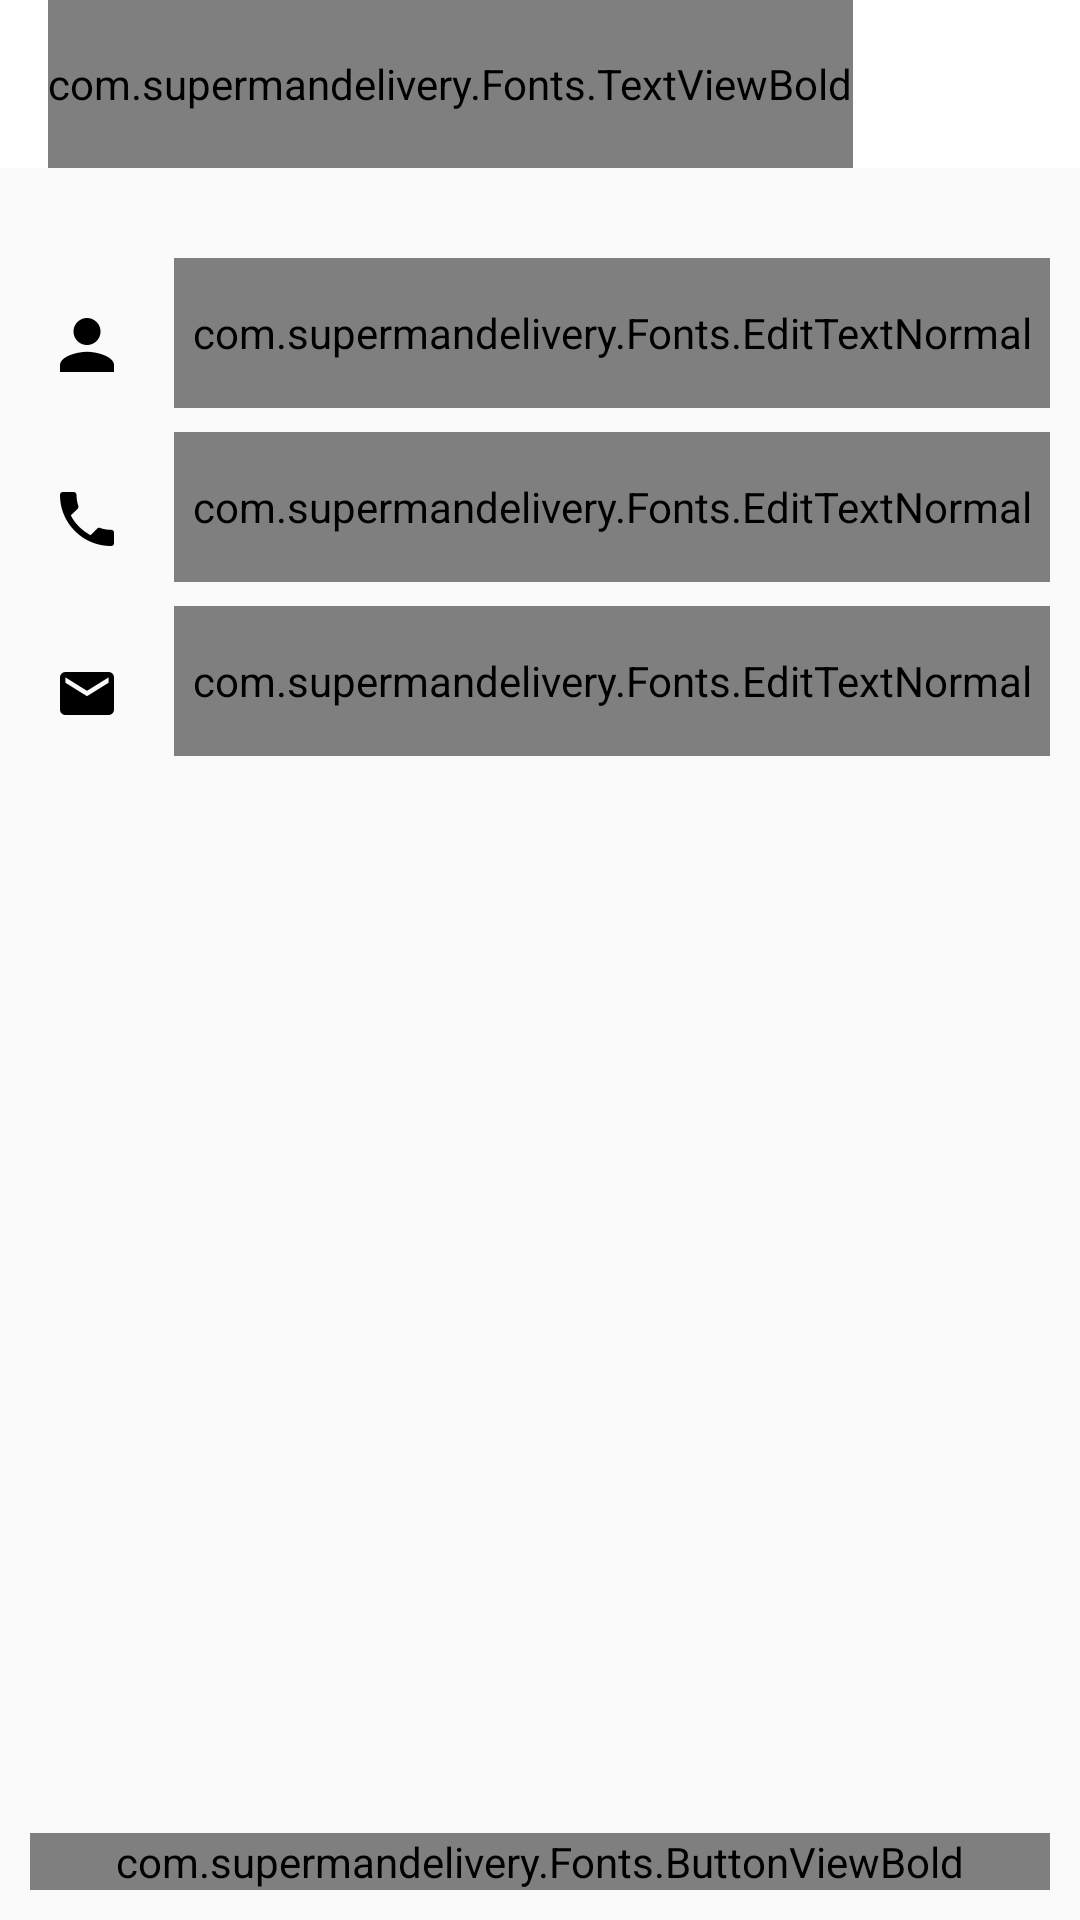

Screen size 1080*1920. Icon name, then its box in pixels as (x1, y1, x2, y2):
call: (60, 492, 114, 546)
